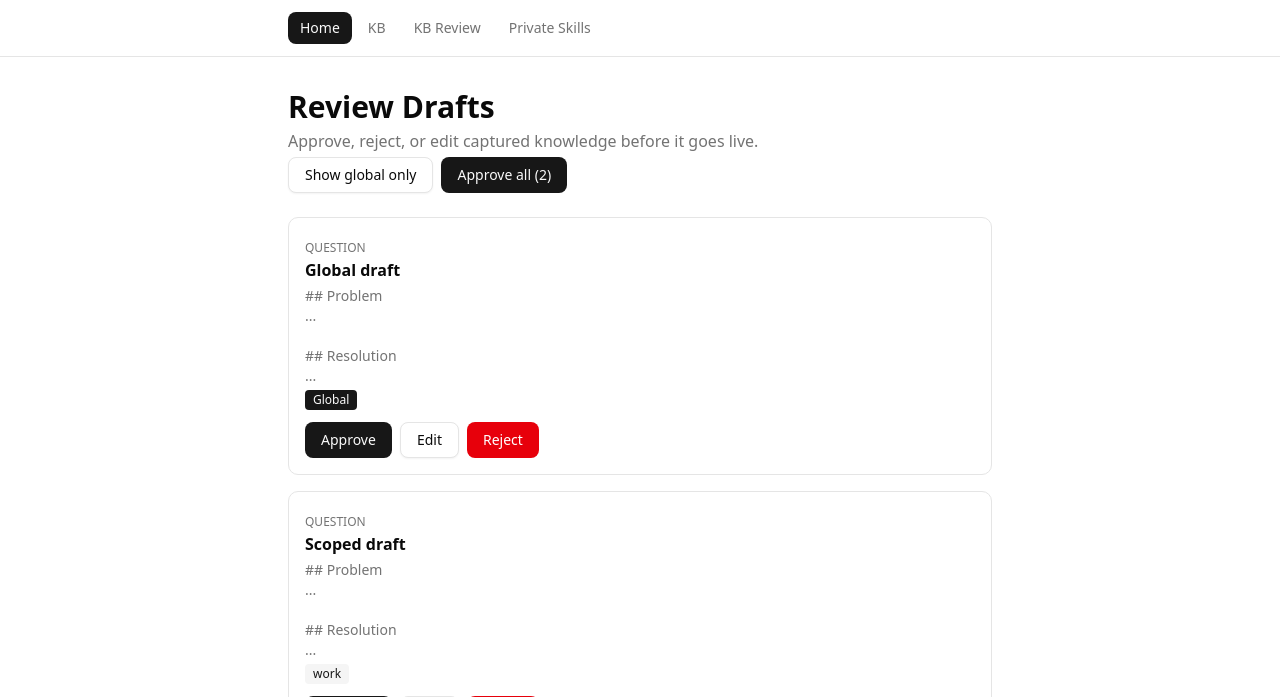
Test case: KB Review screen › narrows the list to global drafts only when the filter is toggled, and restores all when toggled off
Expected: the heading "Global draft" is shown, top-left (305, 259), bottom-right (400, 281)
Expected: the heading "Scoped draft" is shown, top-left (305, 533), bottom-right (406, 555)
# When the reviewer turns on the global-only filter, the scoped draft disappears.
Click the button "Show global only": point(361, 175) top-left (288, 157), bottom-right (434, 193)
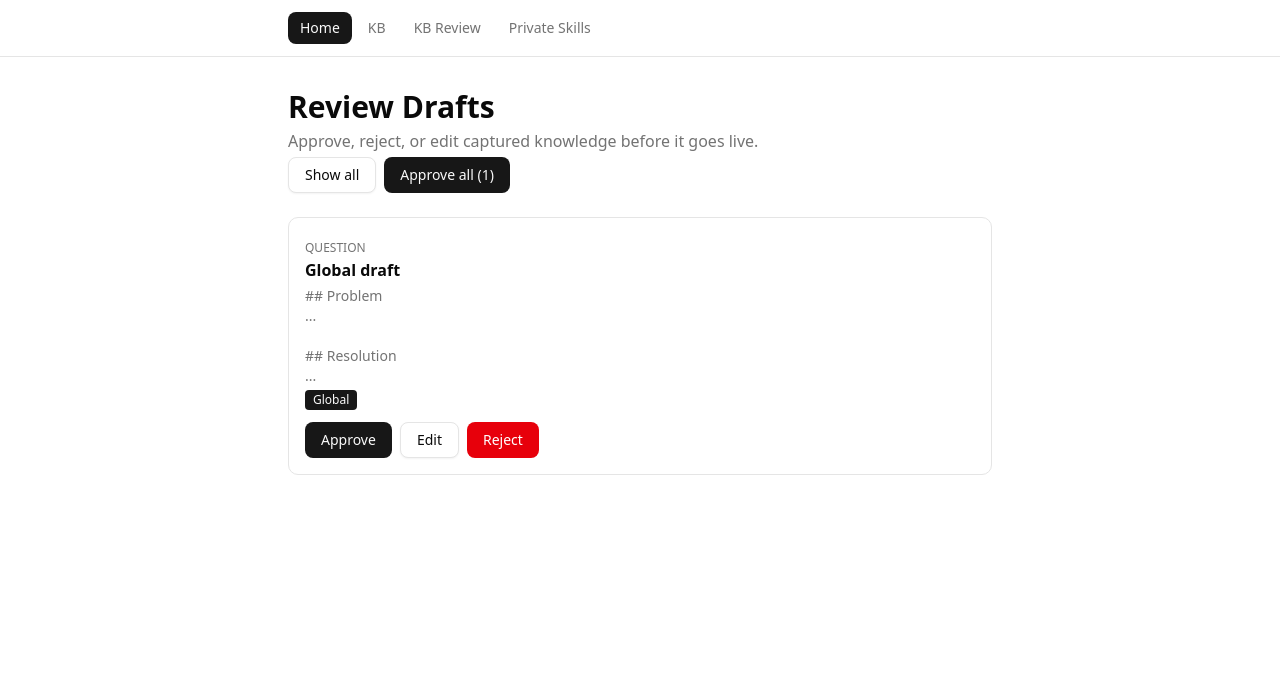
Expected: the heading "Global draft" is shown, top-left (305, 259), bottom-right (400, 281)
Now the heading "Scoped draft" is gone
# When toggled off again, both drafts are visible.
Click the button "Show all": point(332, 175) top-left (288, 157), bottom-right (376, 193)
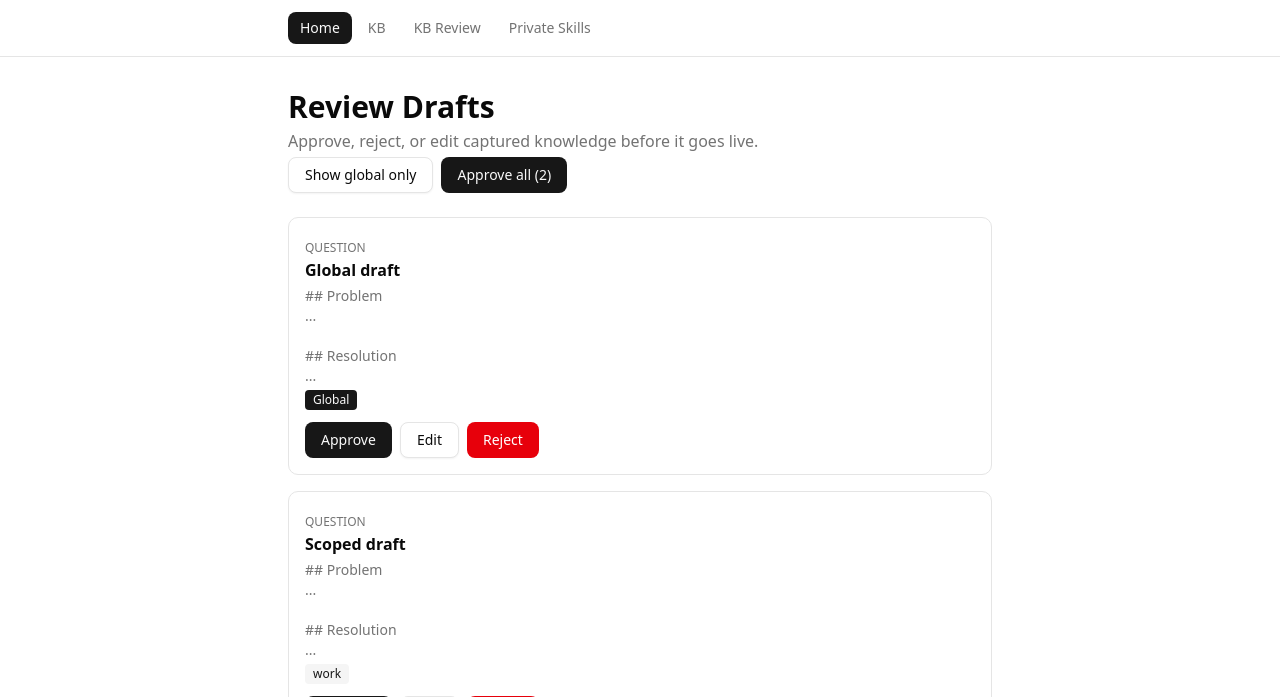
Now the heading "Scoped draft" is shown, box top-left (305, 533), bottom-right (406, 555)
